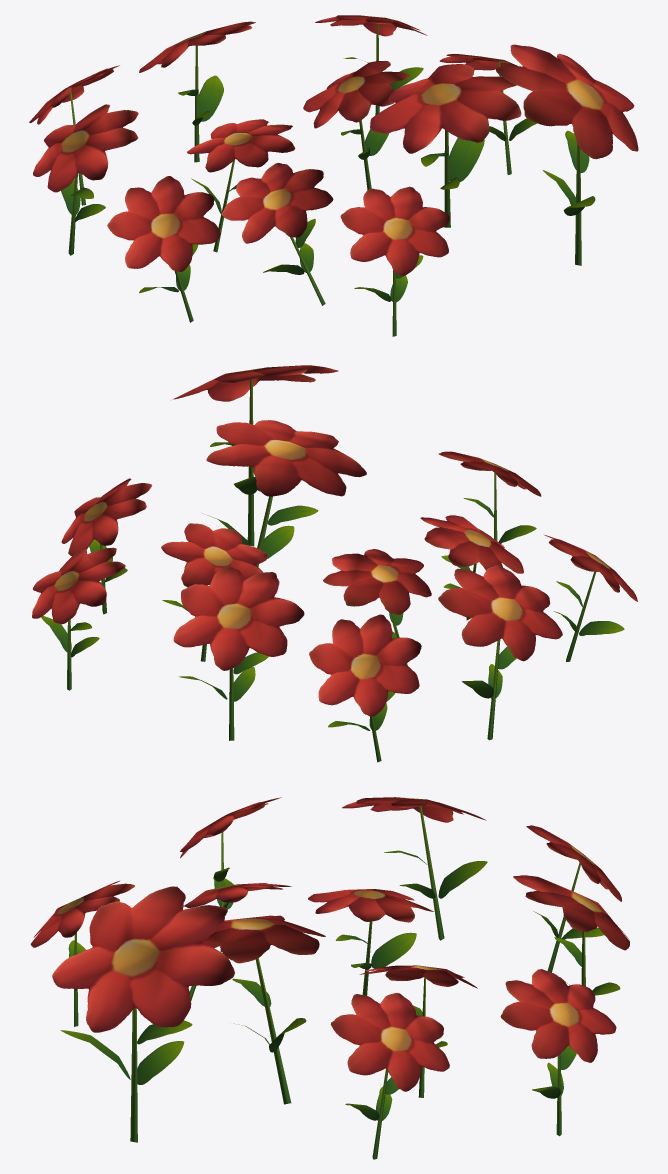
Rendered from Flower_2_Multi.fbx.
3 renders of one model, top to bottom at view 1: azimuth 30°, elevation 25°; view 2: azimuth 150°, elevation 25°; view 3: azimuth 270°, elevation 25°, orthographic. The views are drawn at different scales.
Parts seen in each view (by area): view 1: Flower_2_Multi; view 2: Flower_2_Multi; view 3: Flower_2_Multi.
Part boxes in pixels (x1=…): Flower_2_Multi: x1=29, y1=15, x2=638, y2=336; Flower_2_Multi: x1=32, y1=365, x2=637, y2=762; Flower_2_Multi: x1=30, y1=797, x2=629, y2=1159.
Size of the model in its own units: 1.25 by 0.4525 by 1.18.
